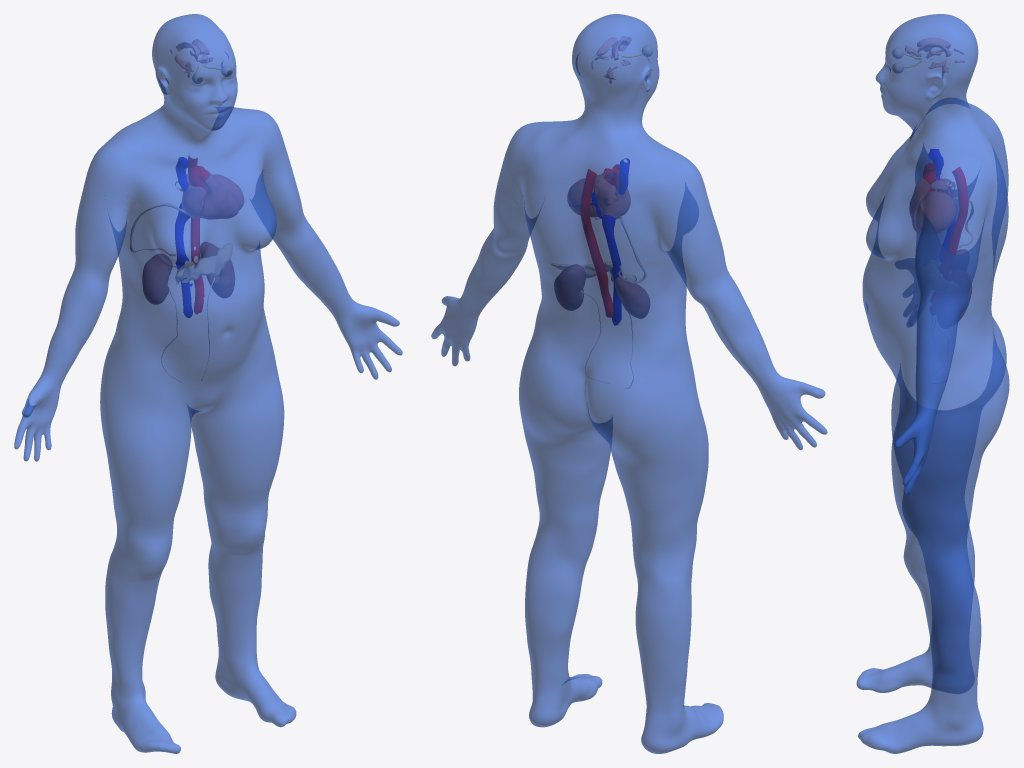
File: anatomy.glb
3 renders of one model, left to right at view 1: azimuth 30°, elevation 25°; view 2: azimuth 150°, elevation 25°; view 3: azimuth 270°, elevation 25°, orthographic.
Parts seen in each view (by area): view 1: VH_F_skin, VH_F_kidney_capsule_R, VH_F_right_ventricle, VH_F_kidney_capsule_L, VH_F_inferior_vena_cava_b, VH_F_descending_aorta_b; view 2: VH_F_skin, VH_F_kidney_capsule_L, VH_F_kidney_capsule_R, VH_F_descending_aorta_b; view 3: VH_F_skin, VH_F_left_ventricle, VH_F_descending_aorta_a, VH_F_right_ventricle, VH_F_left_cardiac_atrium.
Part boxes in pixels (x1,y1,x2,y2): VH_F_skin: [14, 14, 402, 753]; VH_F_kidney_capsule_R: [142, 254, 172, 304]; VH_F_right_ventricle: [201, 175, 238, 219]; VH_F_kidney_capsule_L: [200, 242, 234, 297]; VH_F_inferior_vena_cava_b: [175, 220, 192, 317]; VH_F_descending_aorta_b: [191, 217, 204, 314]; VH_F_skin: [431, 14, 827, 753]; VH_F_kidney_capsule_L: [554, 264, 585, 310]; VH_F_kidney_capsule_R: [615, 277, 649, 318]; VH_F_descending_aorta_b: [585, 231, 612, 317]; VH_F_skin: [856, 14, 1009, 753]; VH_F_left_ventricle: [916, 192, 956, 232]; VH_F_descending_aorta_a: [952, 167, 968, 232]; VH_F_right_ventricle: [909, 178, 929, 234]; VH_F_left_cardiac_atrium: [930, 179, 955, 197].
Size of the model in its own units: 0.9617 by 1.66 by 0.3271.
